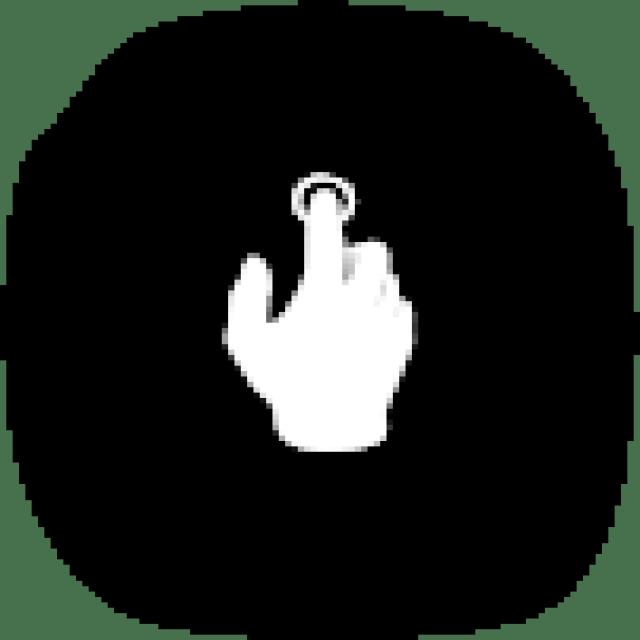Background Image: (0, 0, 634, 635)
Text Elements: (627, 215, 634, 441), (0, 209, 6, 430)
